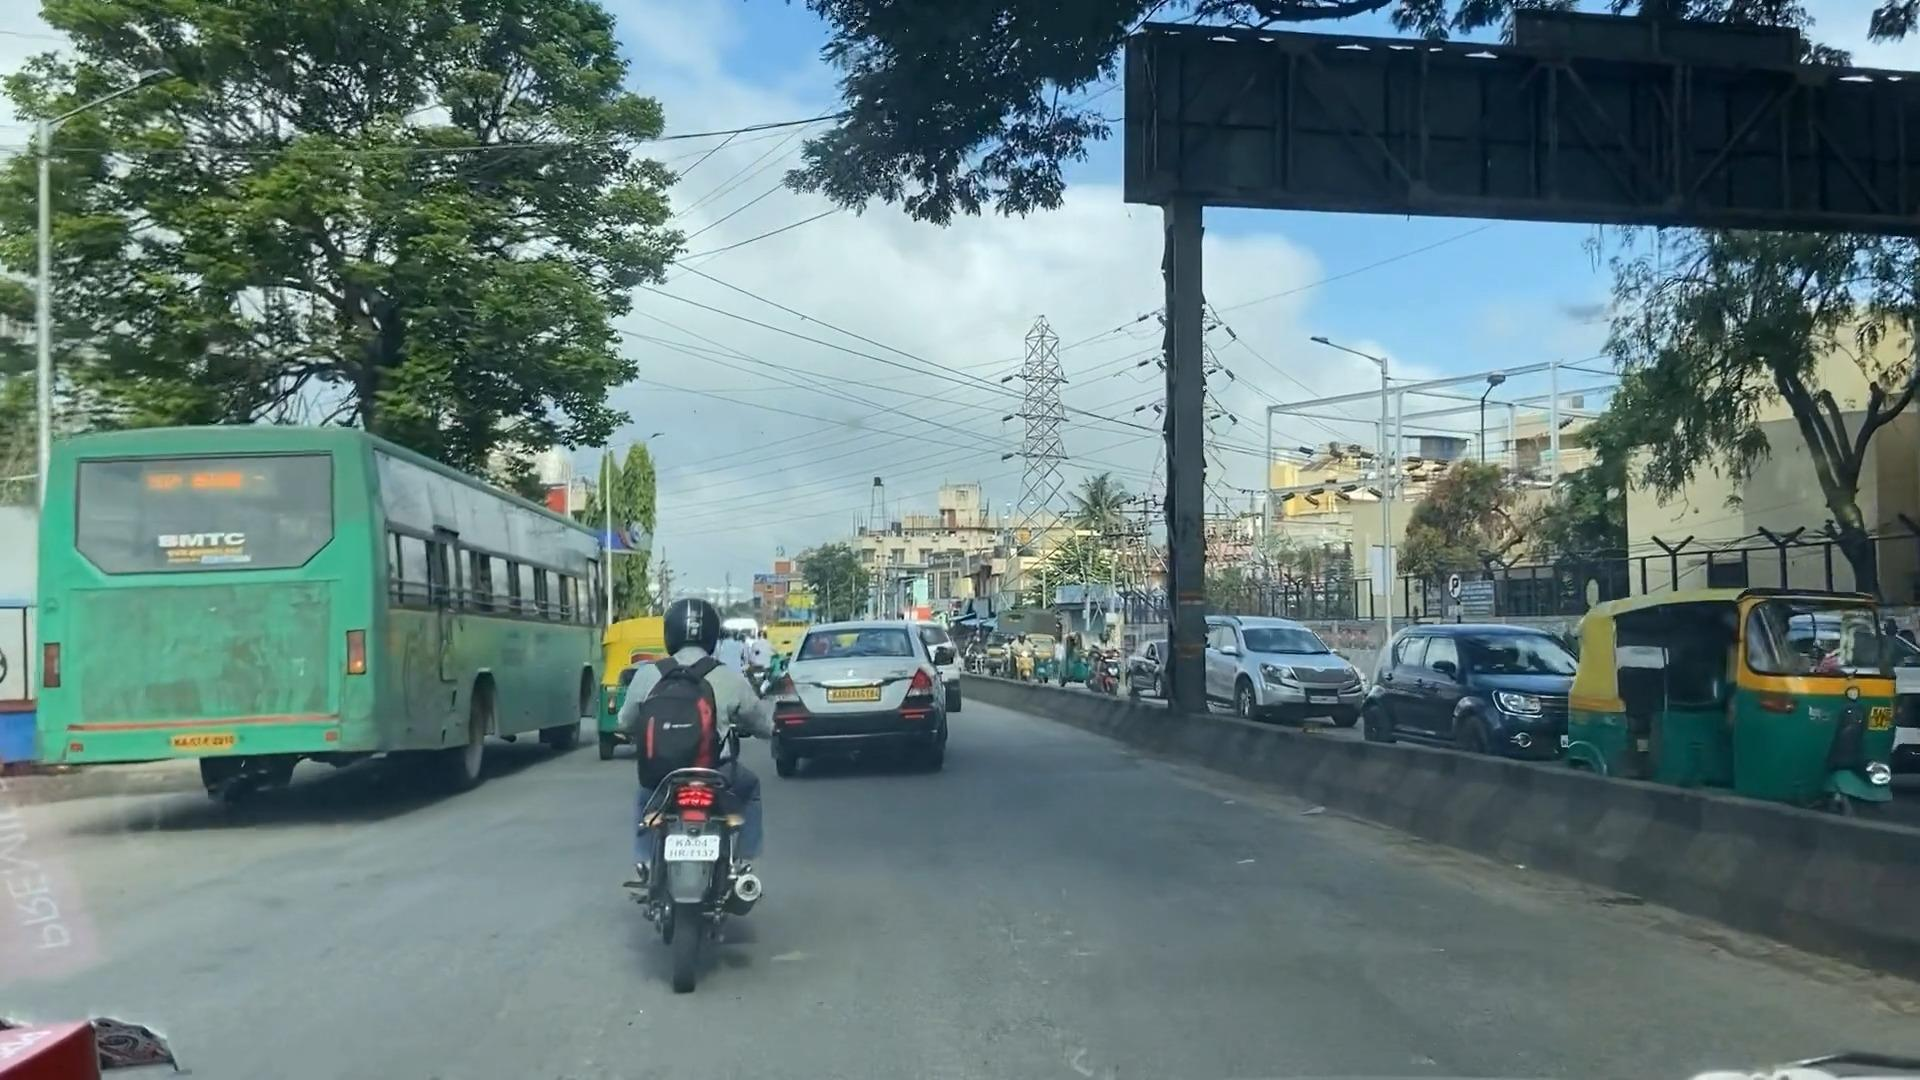HMV: (16, 433, 600, 764)
LMV: (624, 599, 767, 968), (764, 618, 948, 773)
